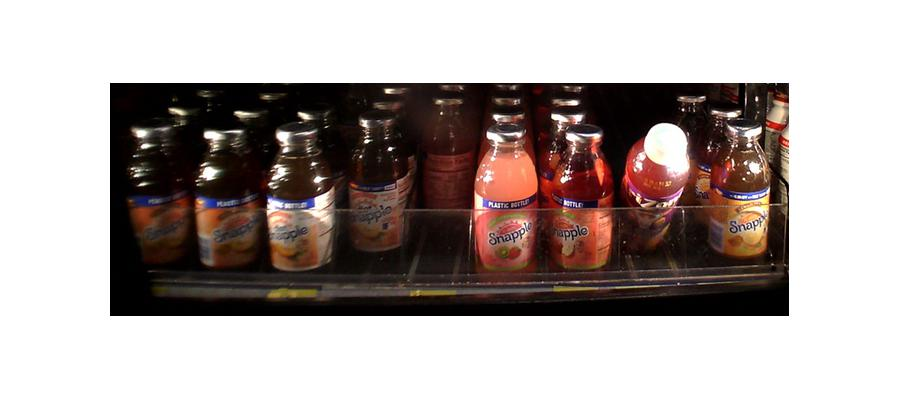bottle: (267, 121, 335, 276), (125, 114, 191, 266), (547, 123, 612, 272), (476, 119, 538, 275), (196, 126, 260, 273), (348, 111, 411, 255), (709, 114, 769, 264), (623, 123, 690, 257), (422, 92, 476, 214)
